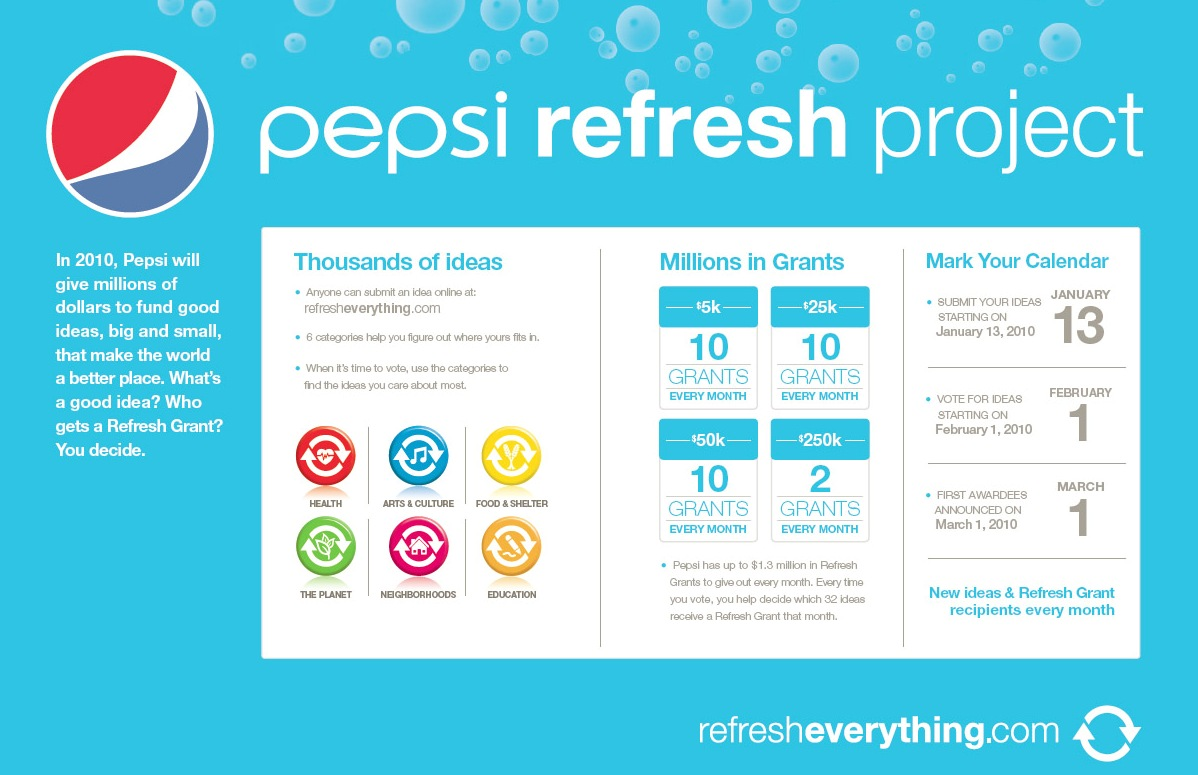pepsi: (47, 49, 212, 219)
